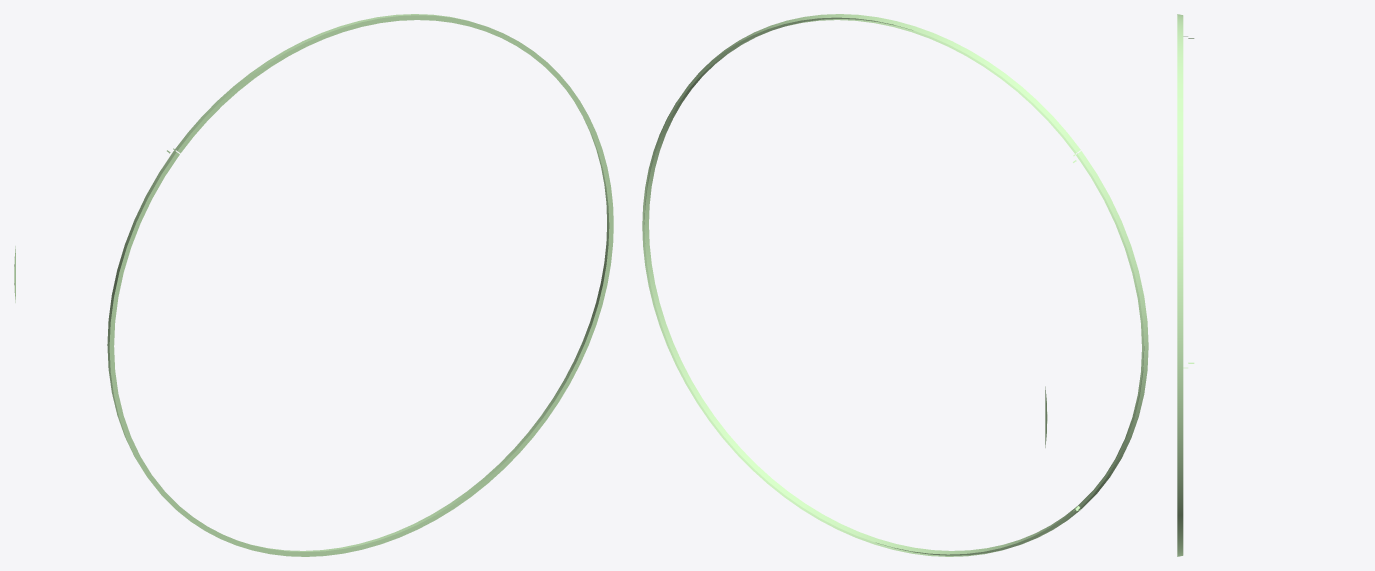
File: Pfen3DE45D4A9opp_12_Pfen3DE45D4A9opp_Mesh_1.obj
The picture shows the model from 3 angles, left to right: view 1: azimuth 30°, elevation 25°; view 2: azimuth 150°, elevation 25°; view 3: azimuth 270°, elevation 25°; orthographic projection. The views are drawn at different scales.
Parts seen in each view (by area): view 1: Mesh_Diffuse_3; view 2: Mesh_Diffuse_3; view 3: Mesh_Diffuse_3.
Part boxes in pixels (left/top/right/bottom): Mesh_Diffuse_3: left=14, top=14, right=613, bottom=556; Mesh_Diffuse_3: left=642, top=14, right=1148, bottom=556; Mesh_Diffuse_3: left=1177, top=14, right=1194, bottom=556.
Bounding box in the file's own units: 0.8906 × 0.8906 × 0.3011.
